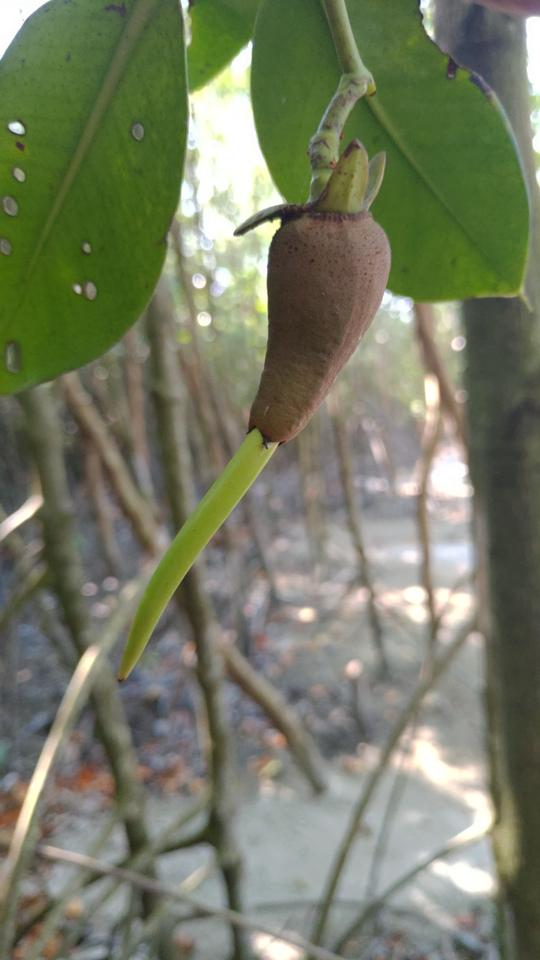mentah: (96, 132, 423, 706)
